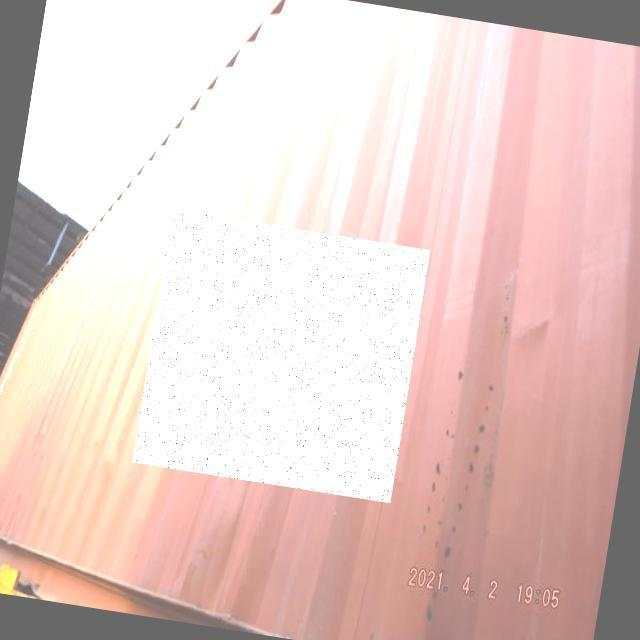Dent: (133, 210, 431, 504)
